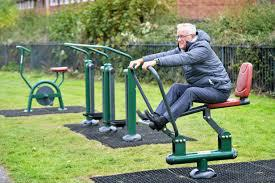Person: (125, 19, 238, 128)
